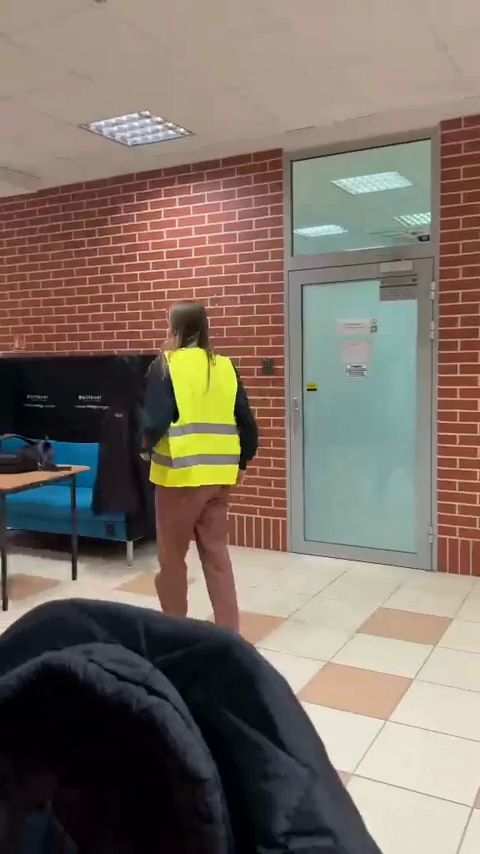vest: (136, 302, 264, 636)
